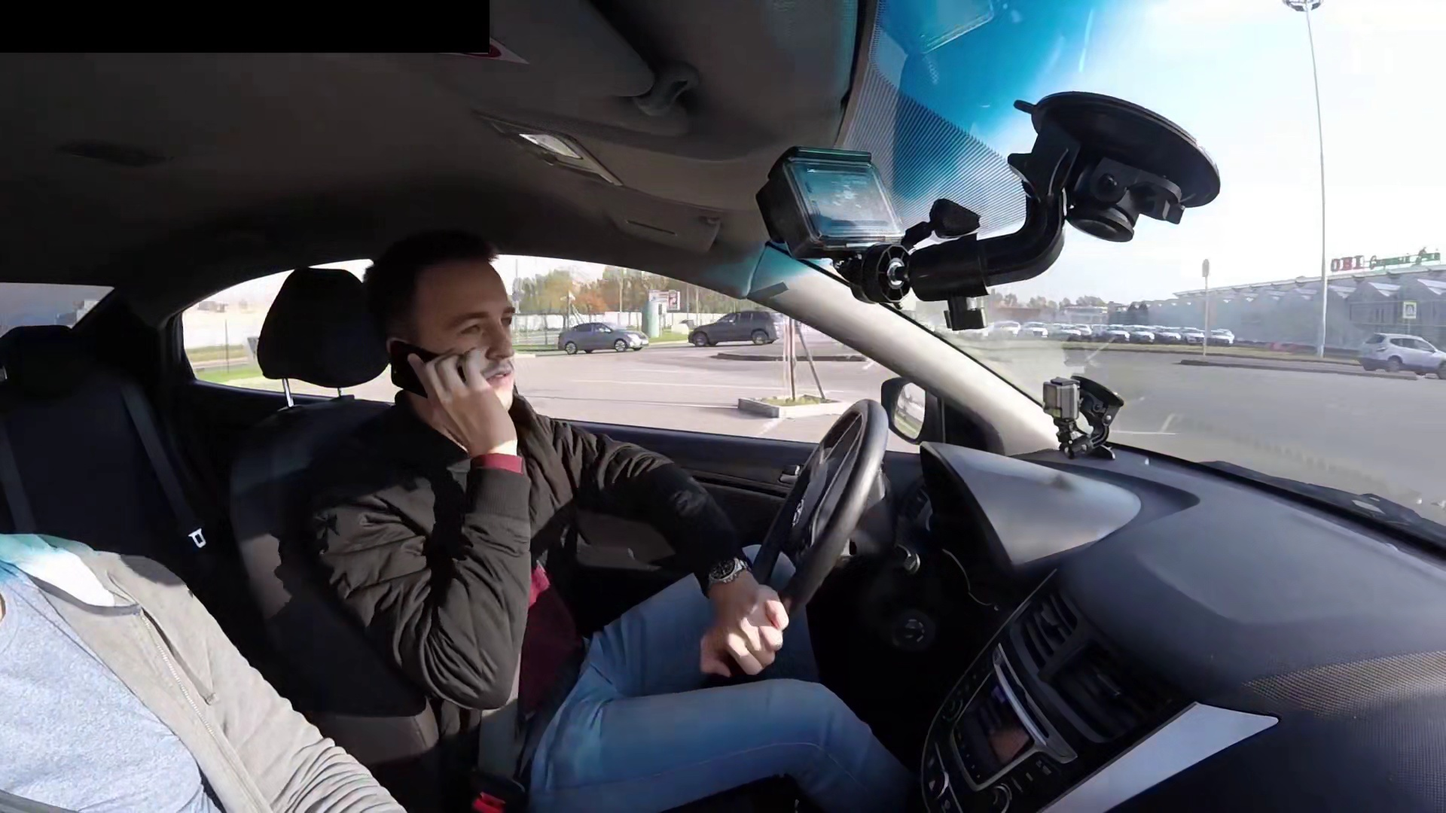car: (0, 201, 609, 776), (1357, 325, 1445, 382)
